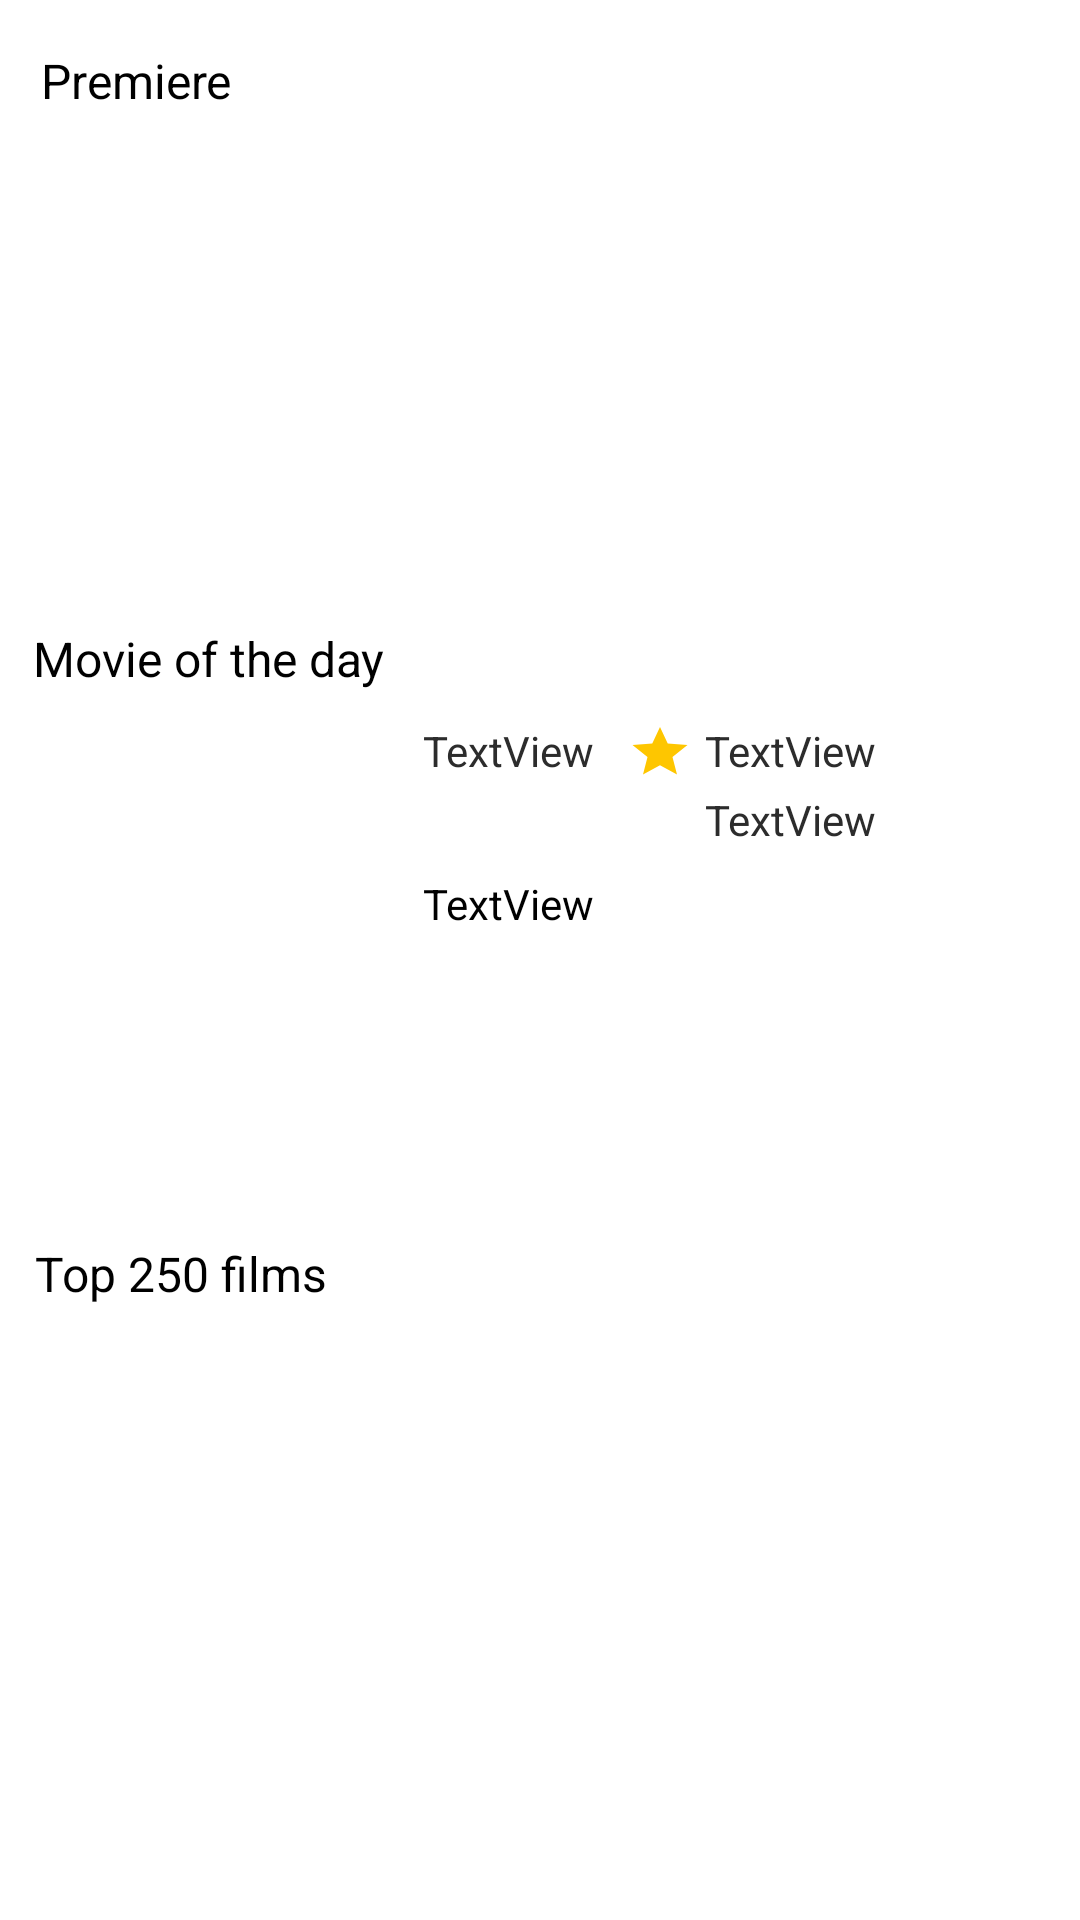

Where to tap for icons on this 1080*1920 app screen, as (x=x, y=y):
star: (x=660, y=751)
